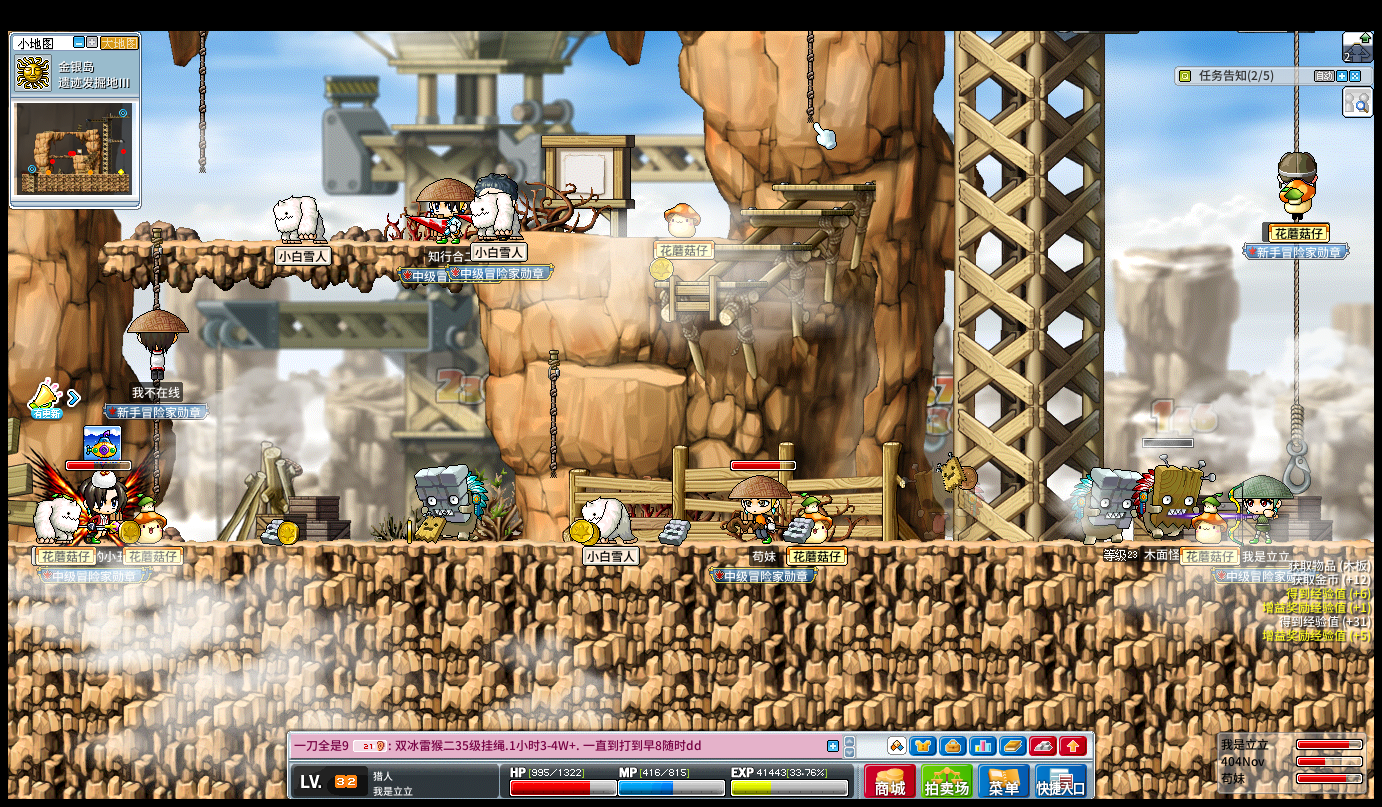floor: (101, 237, 472, 248), (579, 364, 688, 385), (599, 233, 739, 241), (654, 280, 769, 289), (734, 207, 848, 215), (770, 183, 875, 191), (707, 244, 809, 251)
monster: (1134, 457, 1209, 540), (413, 463, 488, 542), (1070, 466, 1137, 543), (898, 465, 953, 540)
rope: (546, 350, 561, 483), (1292, 257, 1304, 411), (1291, 257, 1301, 408), (198, 31, 207, 173), (150, 227, 161, 308), (1292, 29, 1299, 148), (805, 29, 813, 123), (1288, 402, 1304, 443), (150, 421, 159, 493)
